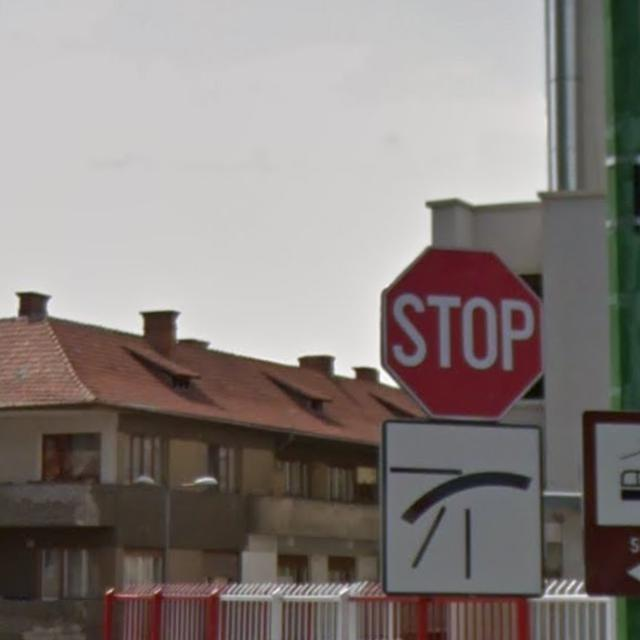prio_stop: (380, 246, 544, 422)
